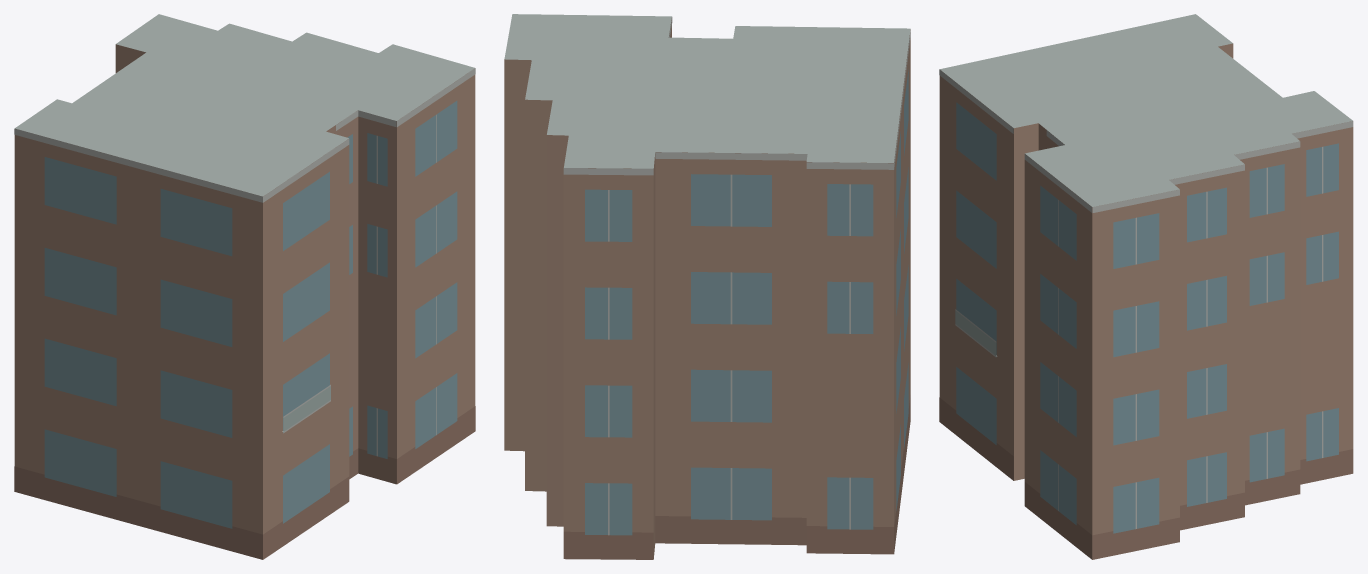
File: survey-upis-32519107.glb
3 renders of one model, left to right at view 1: azimuth 30°, elevation 25°; view 2: azimuth 150°, elevation 25°; view 3: azimuth 270°, elevation 25°, orthographic. The views are drawn at different scales.
Visible parts, largest first — view 1: survey-upis-32519107.tmp; view 2: survey-upis-32519107.tmp; view 3: survey-upis-32519107.tmp.
Boxes of the visible parts, x1,y1,x2,y2 form: survey-upis-32519107.tmp: [14, 14, 475, 559]; survey-upis-32519107.tmp: [504, 14, 910, 559]; survey-upis-32519107.tmp: [939, 14, 1353, 559].
Size of the model in its own units: 16.57 by 14.1 by 15.
